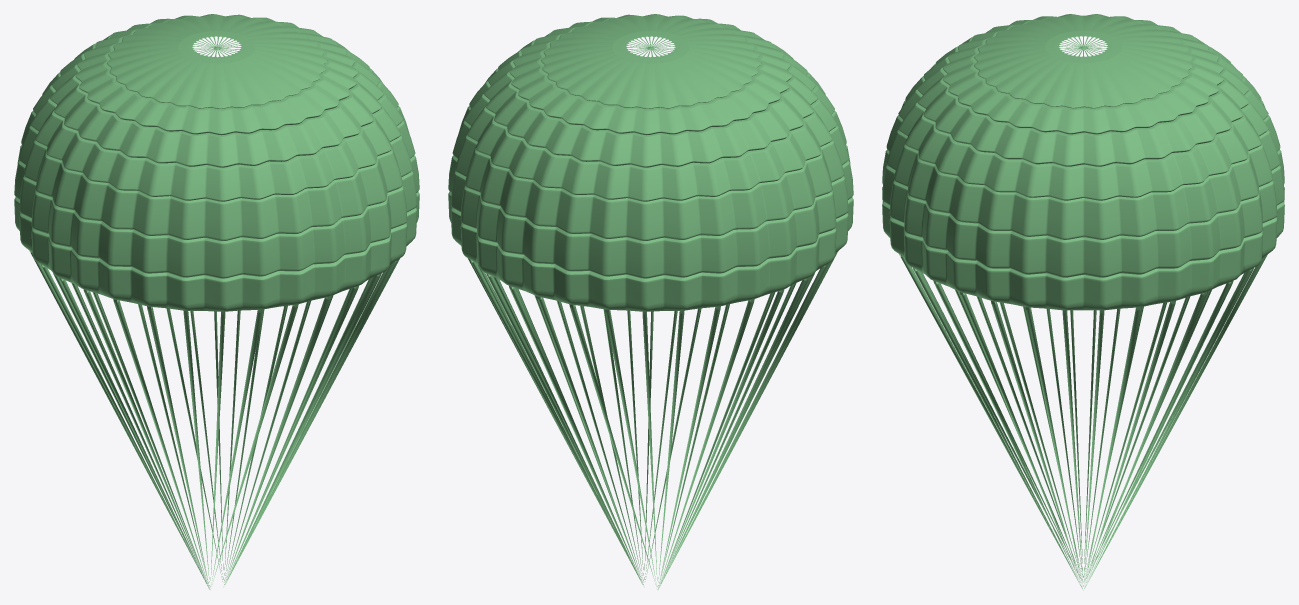
File: seccon.gltf
3 views of the same model, side by side, from view 1: azimuth 30°, elevation 25°; view 2: azimuth 150°, elevation 25°; view 3: azimuth 270°, elevation 25° (orthographic).
Parts seen in each view (by area): view 1: pSphere1; view 2: pSphere1; view 3: pSphere1.
Part boxes in pixels (<box>): pSphere1: <box>14,14,419,589</box>; pSphere1: <box>448,14,853,589</box>; pSphere1: <box>882,14,1284,590</box>.
Size of the model in its own units: 1.35 by 2 by 1.35.
